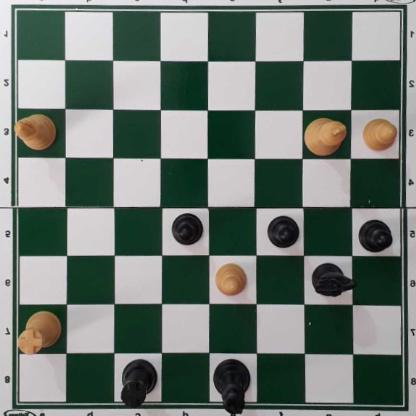black-king: (211, 357, 251, 415)
black-knight: (310, 262, 357, 298)
black-pawn: (358, 220, 392, 254), (170, 213, 204, 246), (267, 216, 299, 251)
black-rook: (120, 358, 158, 409)
white-bishop: (13, 110, 57, 152)
white-king: (303, 117, 347, 158)
white-pawn: (360, 118, 397, 154), (213, 263, 247, 299)
white-rook: (16, 310, 62, 354)
